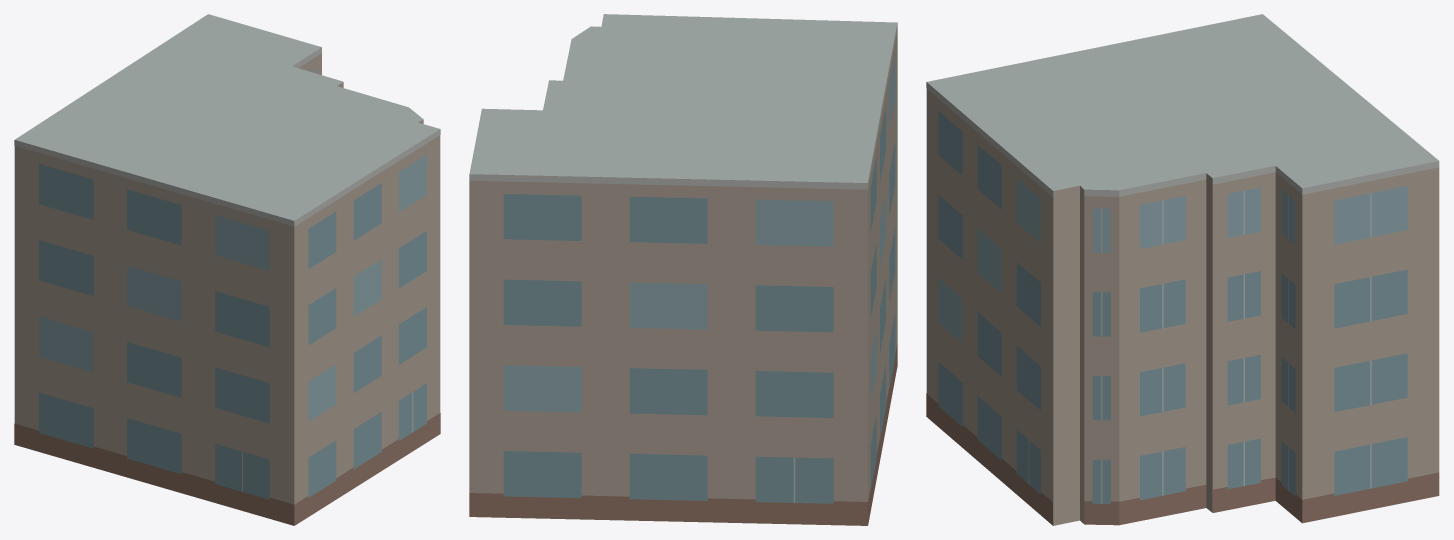
File: survey-upis-32668412.glb
The picture shows the model from 3 angles, left to right: view 1: azimuth 30°, elevation 25°; view 2: azimuth 150°, elevation 25°; view 3: azimuth 270°, elevation 25°; orthographic projection. The views are drawn at different scales.
Visible parts, largest first — view 1: survey-upis-32668412.tmp; view 2: survey-upis-32668412.tmp; view 3: survey-upis-32668412.tmp.
Part boxes in pixels (x1,y1,x2,y2): survey-upis-32668412.tmp: [14, 14, 440, 525]; survey-upis-32668412.tmp: [469, 14, 897, 525]; survey-upis-32668412.tmp: [926, 14, 1439, 525].
Size of the model in its own units: 14.41 by 12.7 by 17.64.
